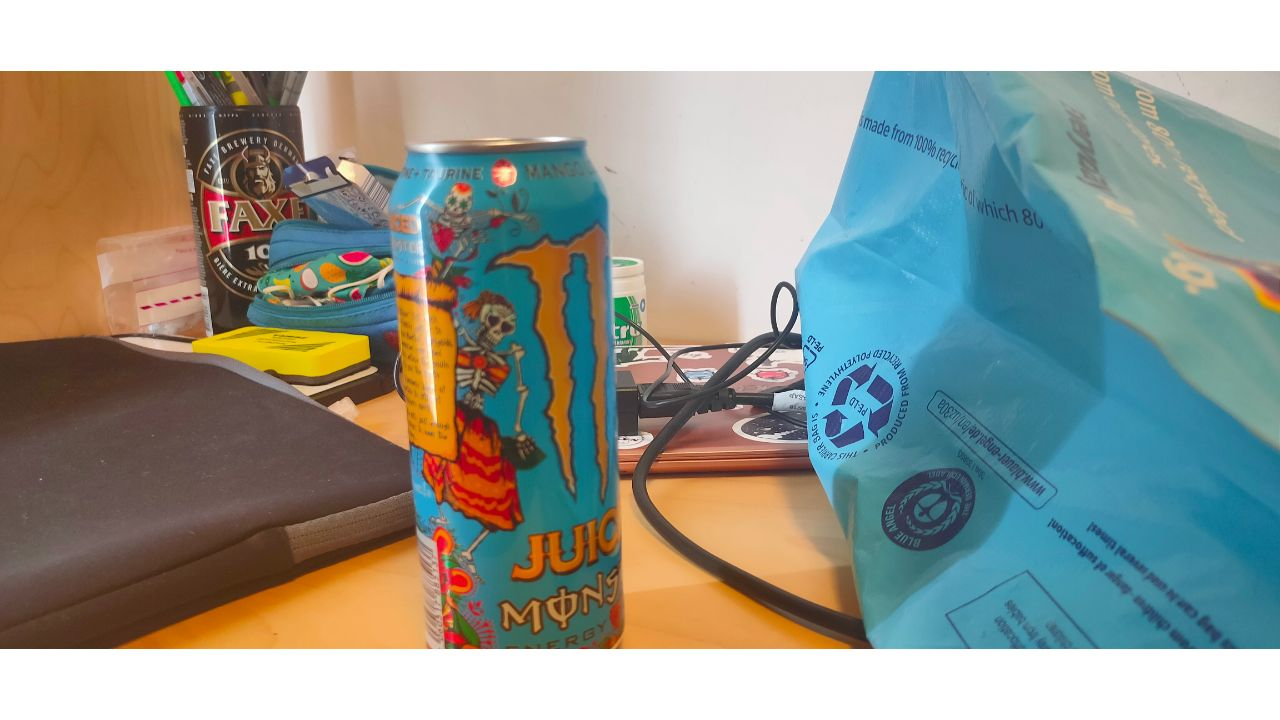Can: (382, 138, 631, 647)
